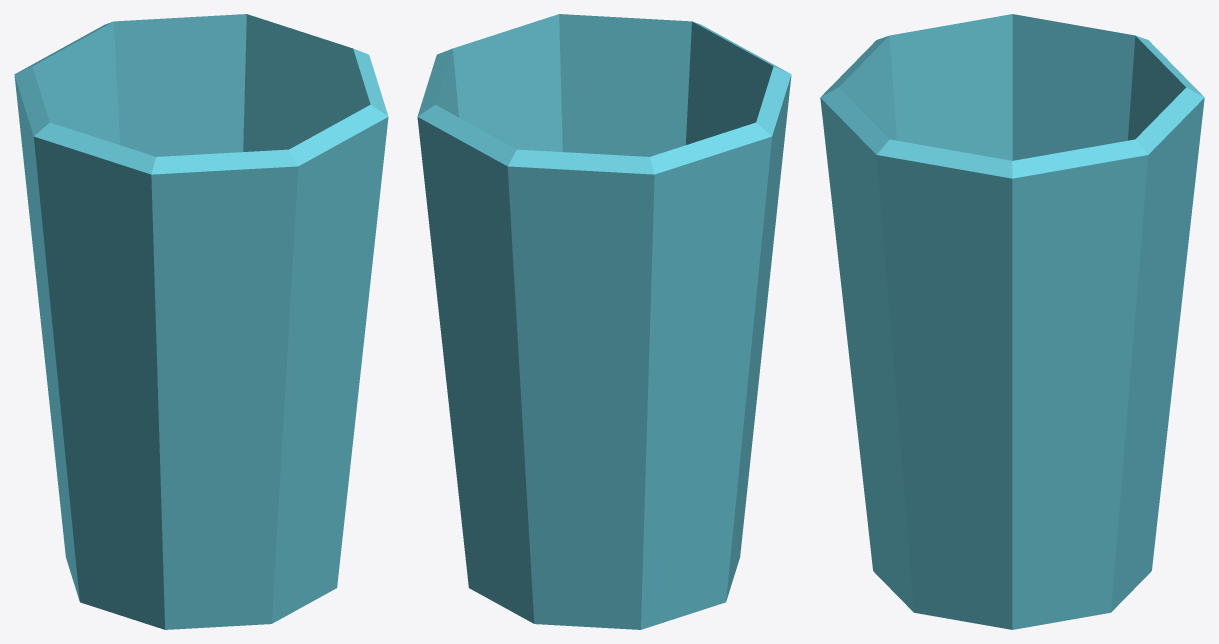
File: GlassCup.fbx
3 renders of one model, left to right at view 1: azimuth 30°, elevation 25°; view 2: azimuth 150°, elevation 25°; view 3: azimuth 270°, elevation 25°, orthographic.
Visible parts, largest first — view 1: GlassCup; view 2: GlassCup; view 3: GlassCup.
Part boxes in pixels (x1,y1,x2,y2): GlassCup: [14, 14, 388, 629]; GlassCup: [417, 14, 791, 629]; GlassCup: [820, 14, 1204, 629].
Size of the model in its own units: 0.08 by 0.08 by 0.111.
